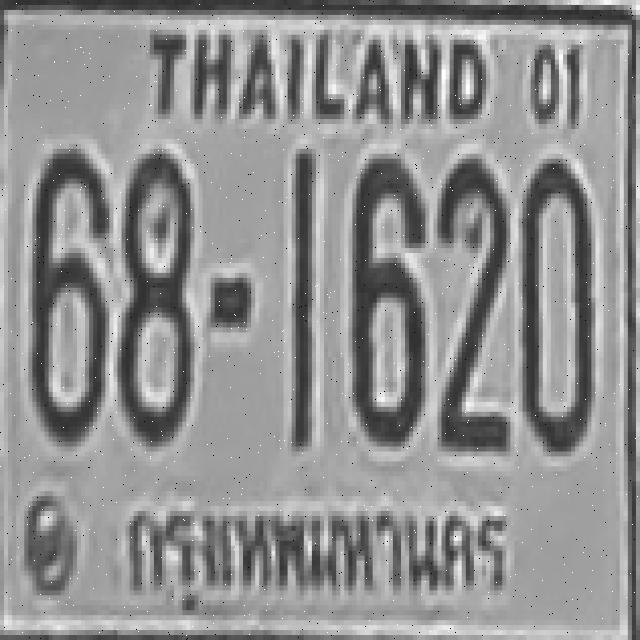0: (518, 154, 592, 442)
2: (434, 152, 506, 400), (436, 159, 508, 407)
8: (122, 149, 194, 441)
Bangkok: (99, 486, 521, 628)
